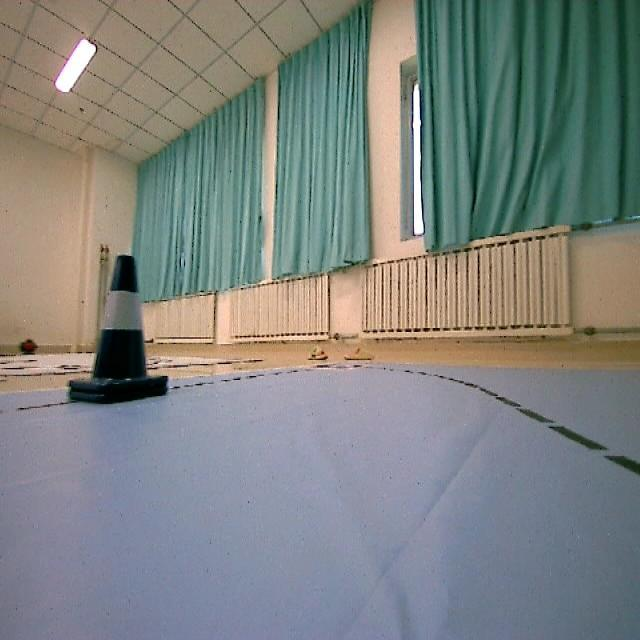obstacle: (72, 248, 178, 428)
